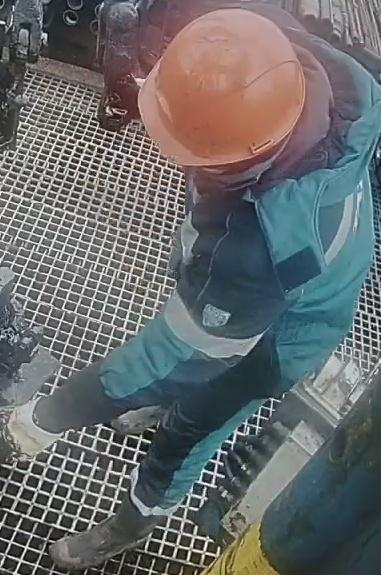gloves: (0, 393, 66, 468)
helmet: (137, 7, 306, 185)
vest: (165, 8, 379, 396)
